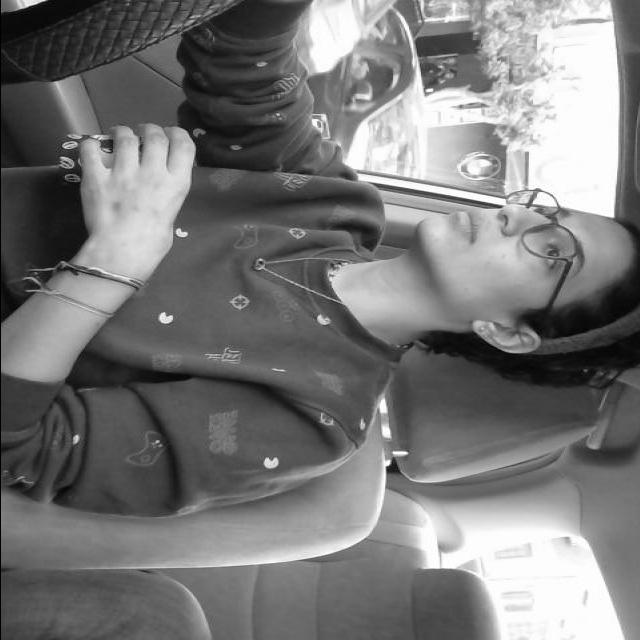drinking: (49, 118, 190, 196)
